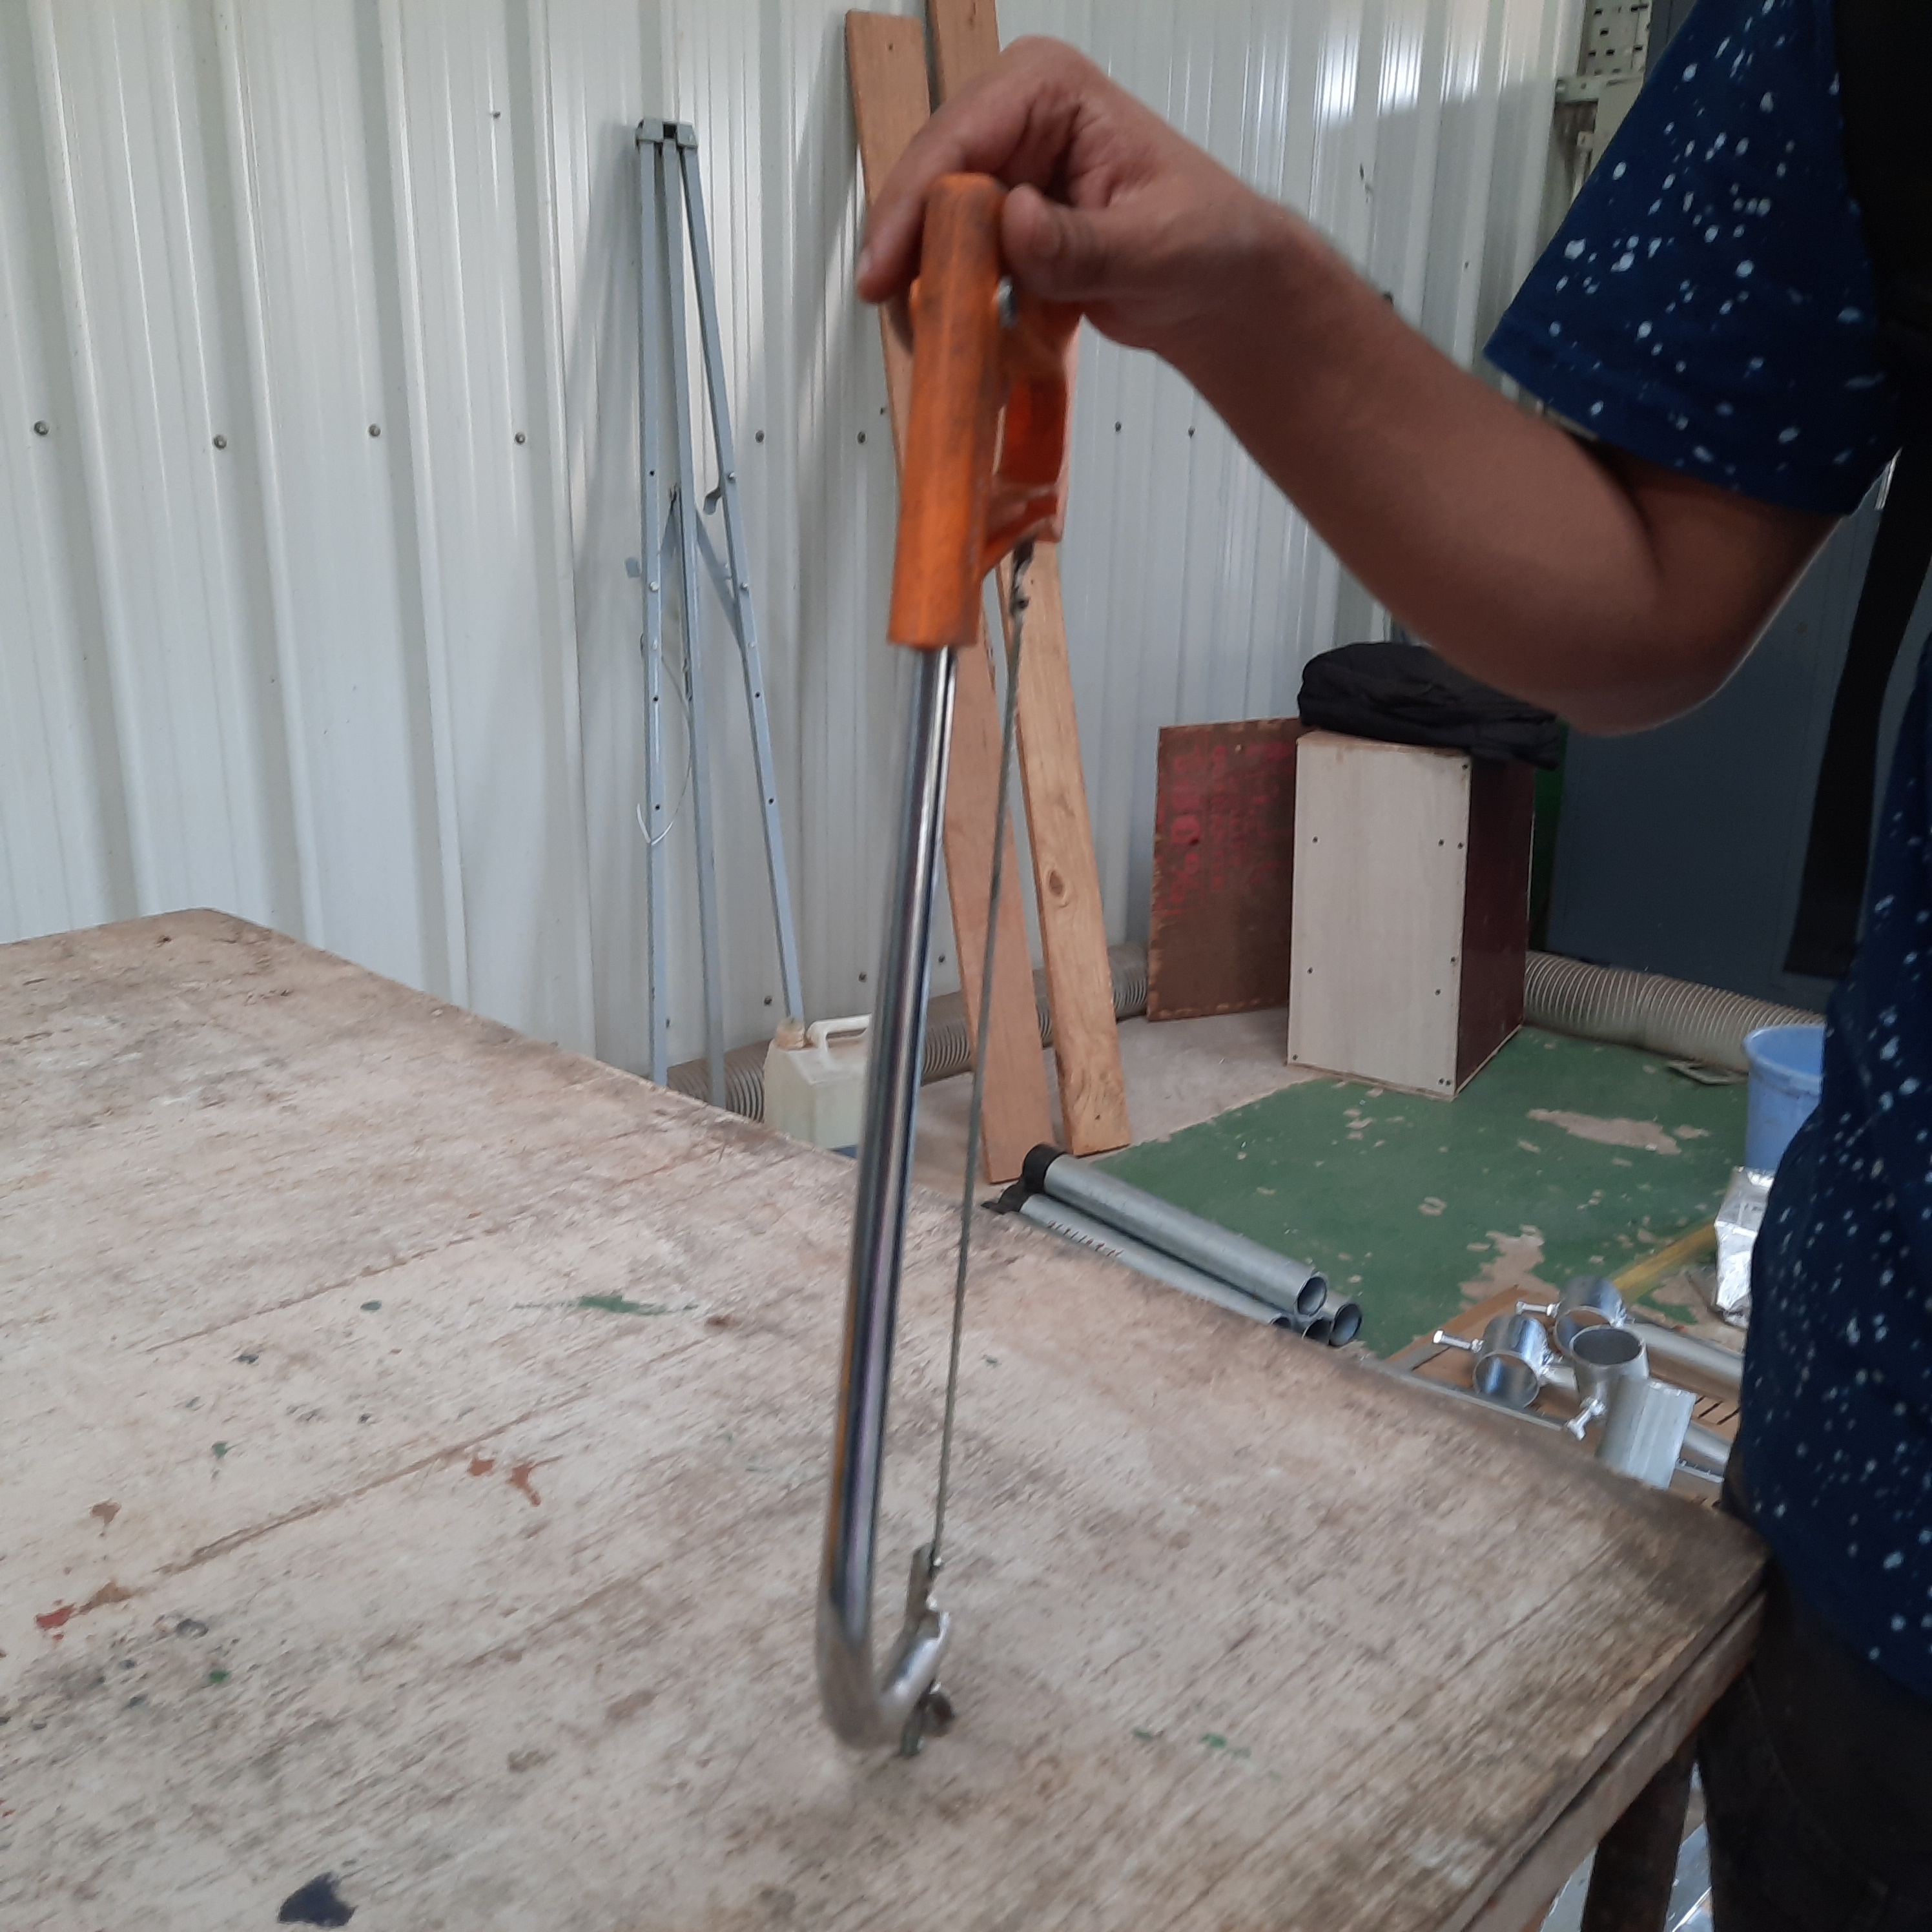Hexaframe: (759, 173, 1157, 1782)
